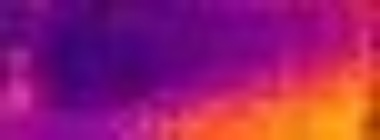Shadow: (1, 1, 345, 91)
